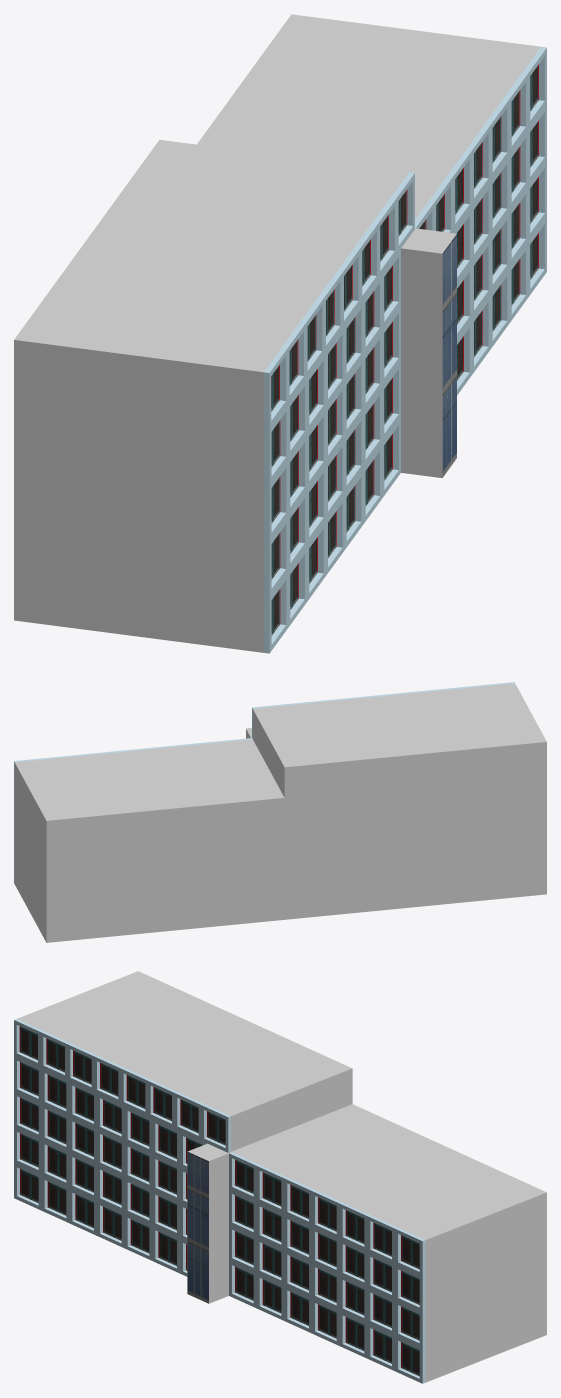
File: likeshiyanlou.fbx
3 renders of one model, top to bottom at view 1: azimuth 30°, elevation 25°; view 2: azimuth 150°, elevation 25°; view 3: azimuth 270°, elevation 25°, orthographic. The views are drawn at different scales.
Parts seen in each view (by area): view 1: CityEngineMaterial_m, CityEngineMaterial_3_m, CityEngineMaterial_2_m, CityEngineMaterial_1_m; view 2: CityEngineMaterial_m, CityEngineMaterial_3_m; view 3: CityEngineMaterial_m, CityEngineMaterial_3_m, CityEngineMaterial_2_m, CityEngineMaterial_1_m.
Boxes of the visible parts, box(x1,y1,x2,y2) form: CityEngineMaterial_m: box(14, 14, 540, 652); CityEngineMaterial_3_m: box(263, 46, 546, 653); CityEngineMaterial_2_m: box(271, 64, 538, 635); CityEngineMaterial_1_m: box(442, 234, 456, 477); CityEngineMaterial_m: box(14, 683, 546, 942); CityEngineMaterial_3_m: box(14, 682, 514, 883); CityEngineMaterial_m: box(17, 971, 546, 1382); CityEngineMaterial_3_m: box(14, 1019, 425, 1383); CityEngineMaterial_2_m: box(19, 1026, 419, 1376); CityEngineMaterial_1_m: box(187, 1151, 208, 1303).
Bounding box in the file's own units: 70.57 × 25 × 67.76.
